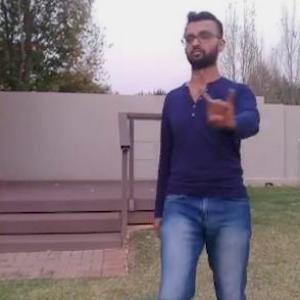takeoff-hand: (198, 80, 244, 132)
